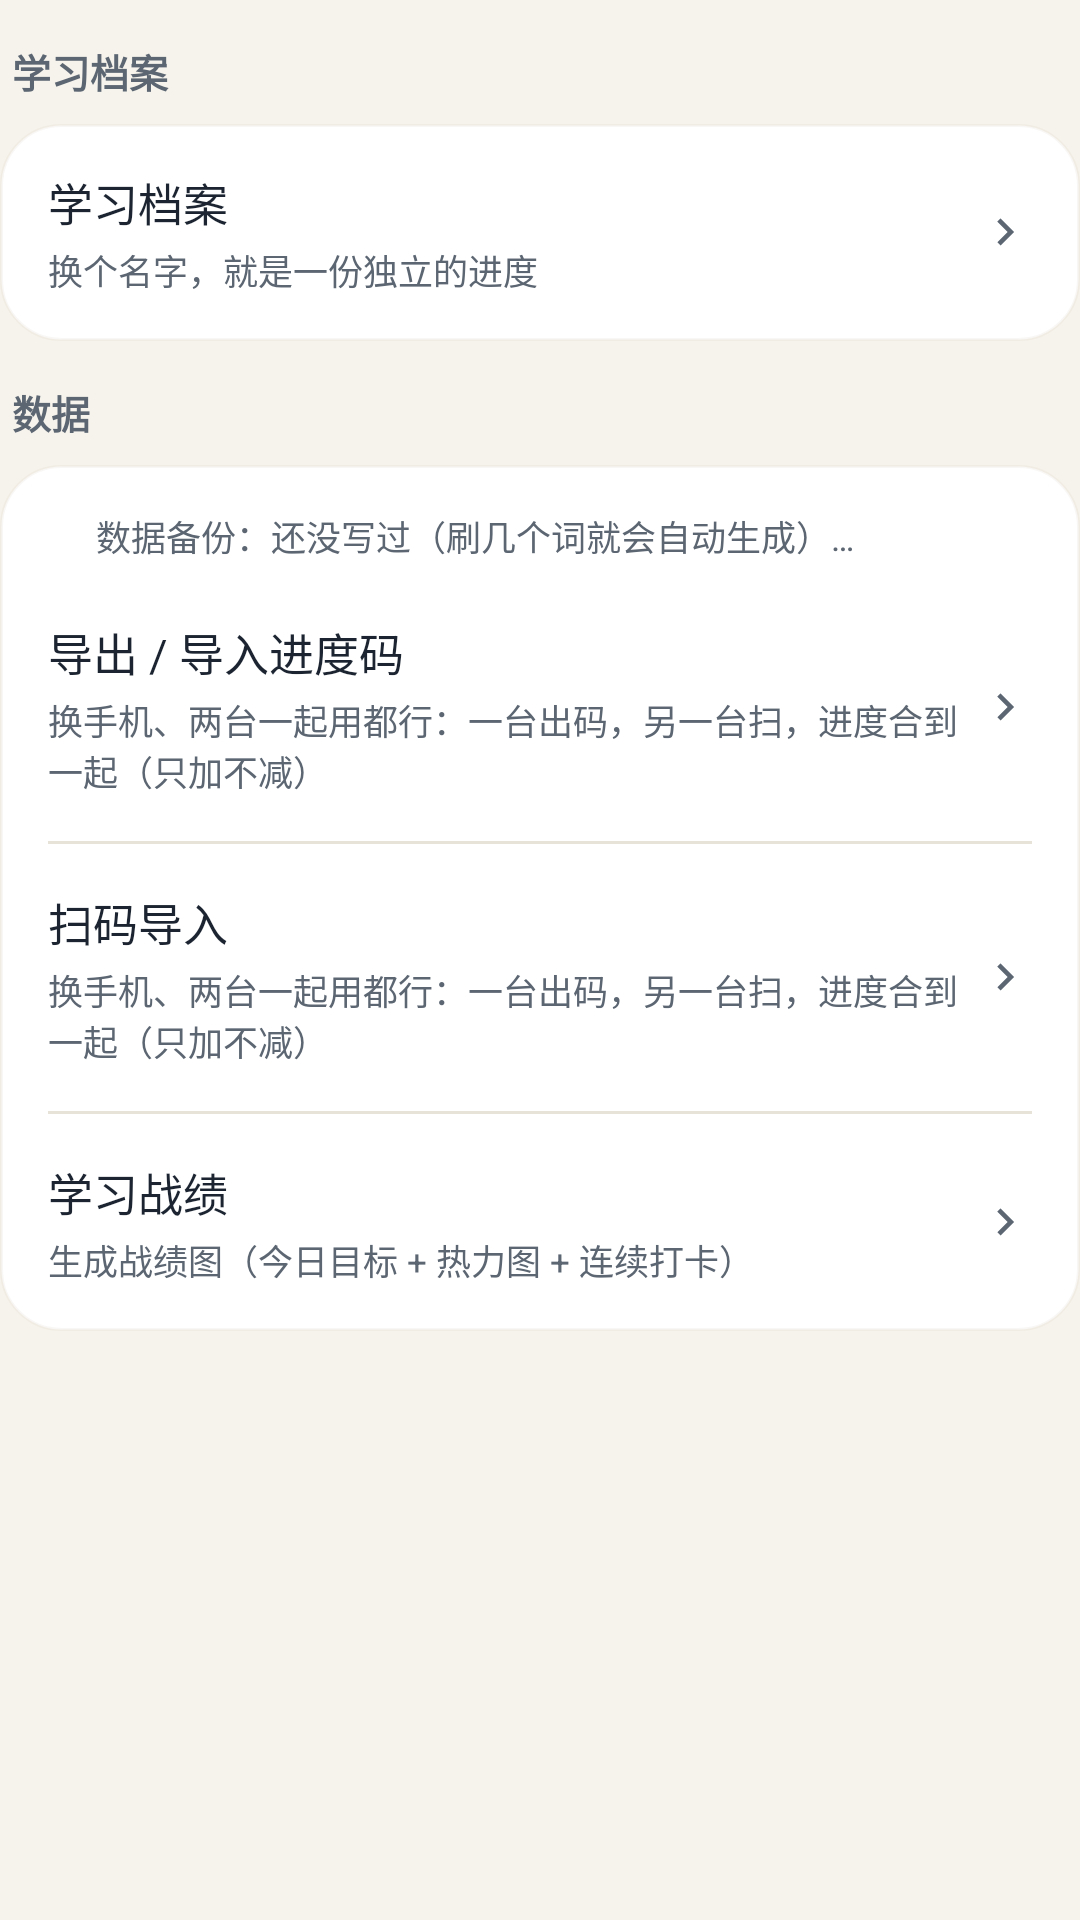

Icons on this 1080×1920 Android screen, each with the point to tap as (x=x, y=y):
chevron: (x=1005, y=232), (x=1005, y=707), (x=1005, y=977), (x=1005, y=1222)
